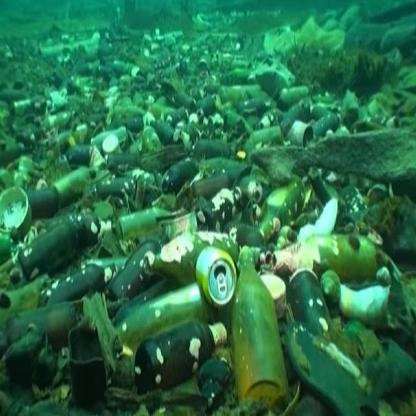can: (191, 246, 244, 307)
gbottle: (265, 216, 376, 296), (230, 270, 288, 396), (134, 312, 231, 370), (110, 292, 220, 342), (289, 265, 342, 343)
